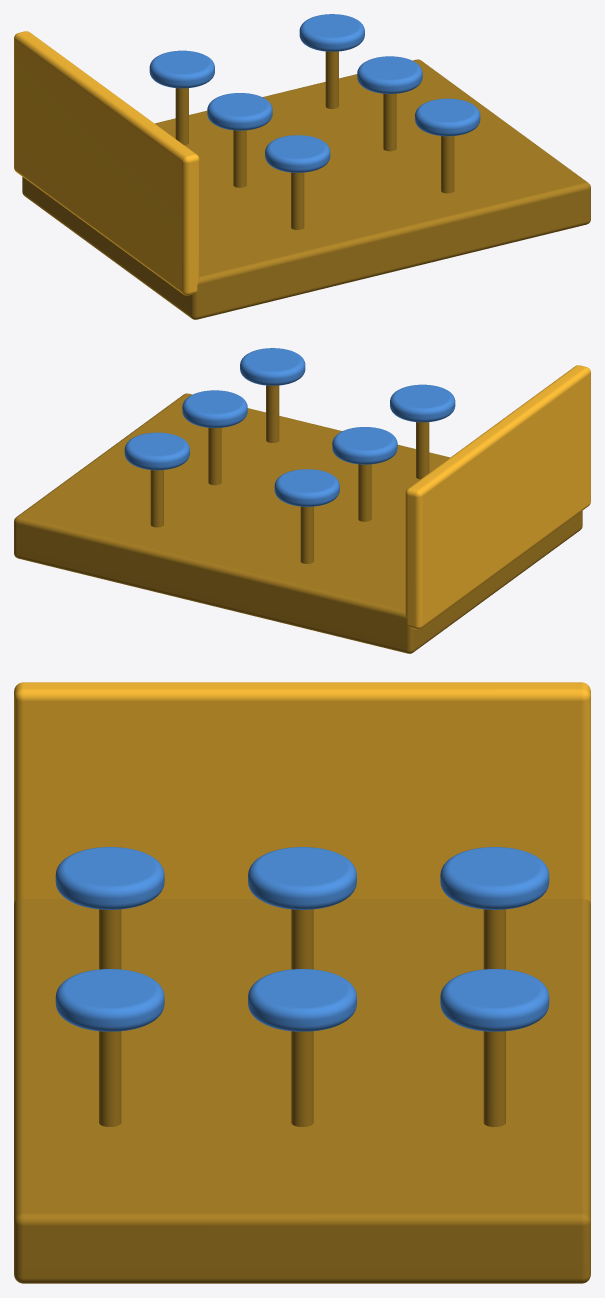
File: courtroom_drama__jury_room.glb
The picture shows the model from 3 angles, top to bottom: view 1: azimuth 30°, elevation 25°; view 2: azimuth 150°, elevation 25°; view 3: azimuth 270°, elevation 25°; orthographic projection. The views are drawn at different scales.
Visible parts, largest first — view 1: Set; view 2: Set; view 3: Set.
Part boxes in pixels (x1,y1,x2,y2): Set: (14,14,590,319); Set: (14,348,590,653); Set: (14,682,590,1283).
Size of the model in its own units: 2.45 by 0.95 by 1.8.
